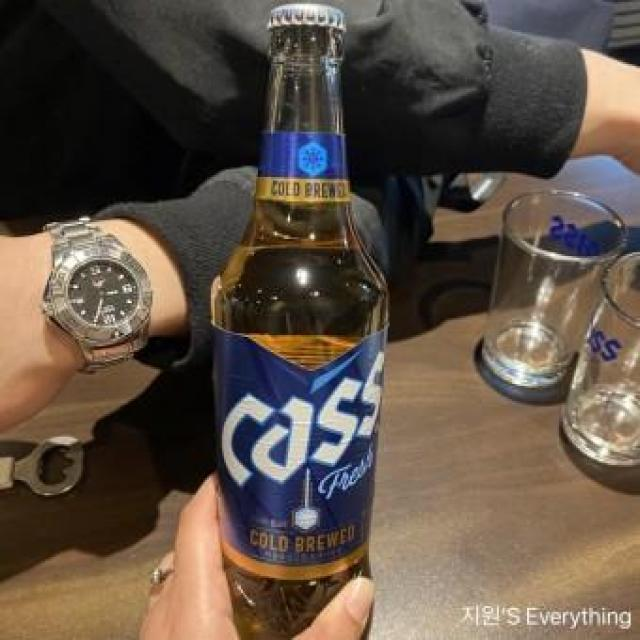beer-bottle: (218, 0, 392, 631)
